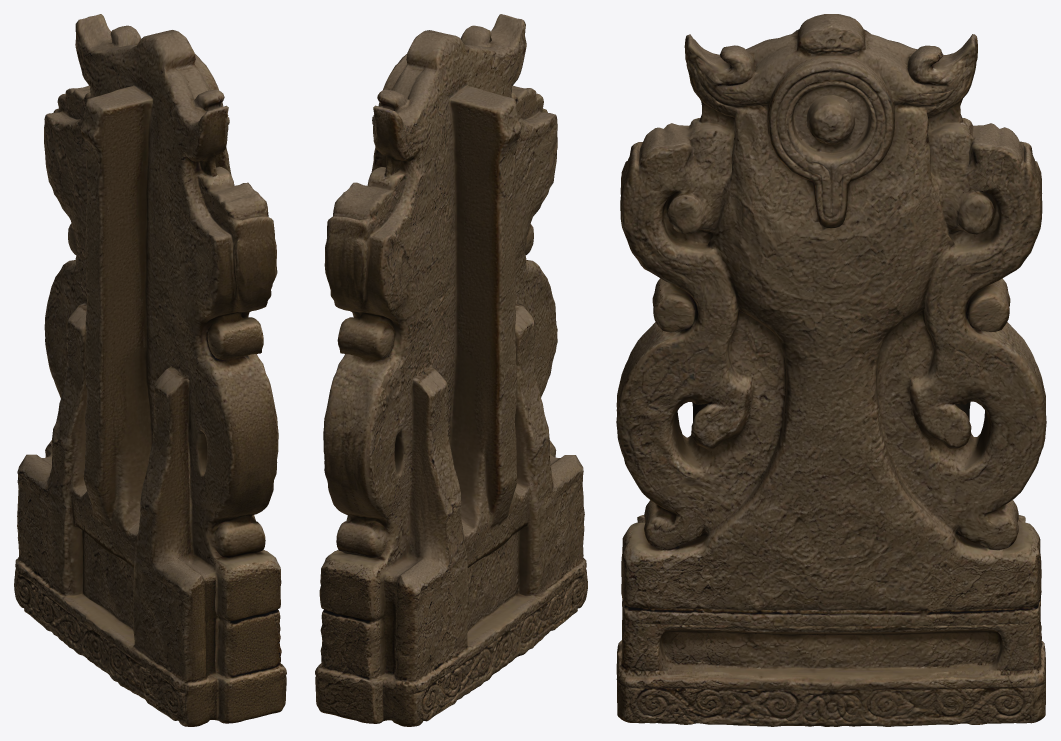
The model's file is stone_sculpture_prop_3d_model.fbx.
The picture shows the model from 3 angles, left to right: view 1: azimuth 30°, elevation 25°; view 2: azimuth 150°, elevation 25°; view 3: azimuth 270°, elevation 25°; orthographic projection. The views are drawn at different scales.
Parts seen in each view (by area): view 1: tripo_node_c264f895; view 2: tripo_node_c264f895; view 3: tripo_node_c264f895.
Boxes of the visible parts, x1,y1,x2,y2 form: tripo_node_c264f895: [14, 14, 286, 726]; tripo_node_c264f895: [315, 14, 587, 726]; tripo_node_c264f895: [616, 14, 1046, 726].
Size of the model in its own units: 0.1978 by 0.9811 by 0.5521.
